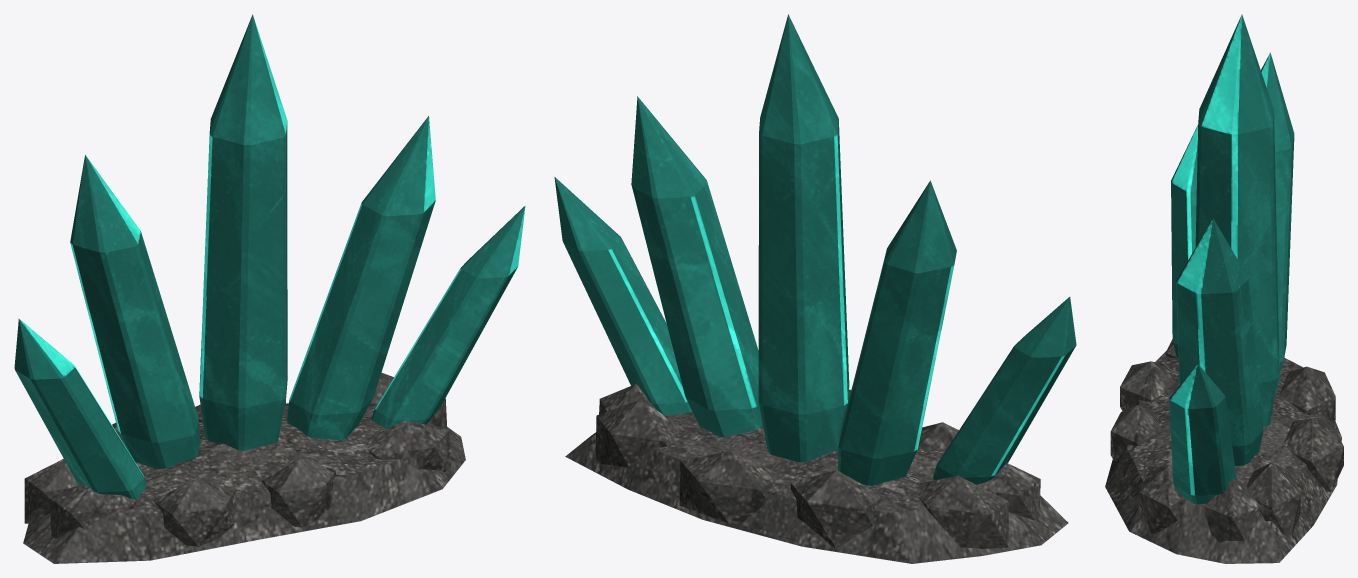
Rendered from ore_cluster_02_fan.glb.
The picture shows the model from 3 angles, left to right: view 1: azimuth 30°, elevation 25°; view 2: azimuth 150°, elevation 25°; view 3: azimuth 270°, elevation 25°; orthographic projection. The views are drawn at different scales.
Parts seen in each view (by area): view 1: ore_cluster_02_fan; view 2: ore_cluster_02_fan; view 3: ore_cluster_02_fan.
Part boxes in pixels (x1,y1,x2,y2): ore_cluster_02_fan: (14,14,525,563); ore_cluster_02_fan: (554,14,1076,563); ore_cluster_02_fan: (1105,14,1343,563).
Size of the model in its own units: 34.03 by 30 by 14.28.
Materials: 3 (3 with a texture image).
